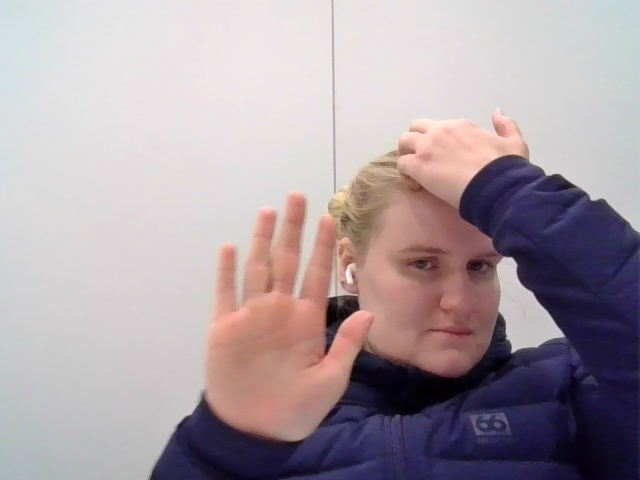nada: (172, 179, 375, 448)
